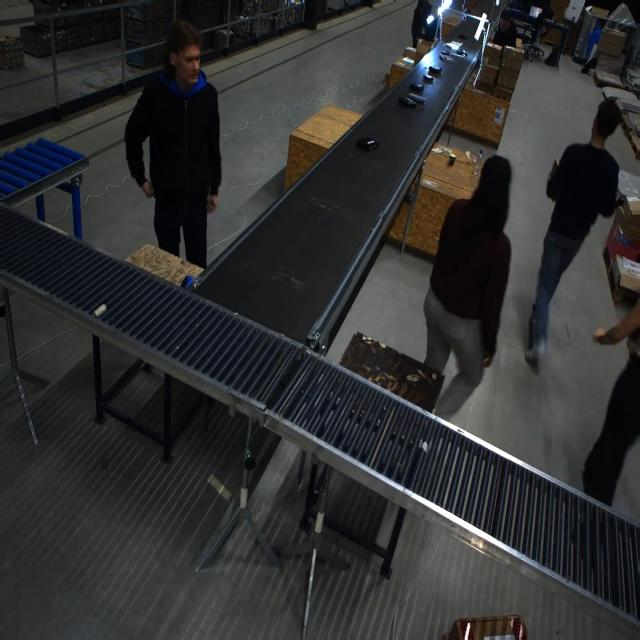product: (355, 136, 379, 151), (398, 96, 416, 108), (407, 94, 426, 103), (447, 40, 462, 50), (409, 82, 424, 91), (440, 55, 455, 63), (427, 66, 441, 74), (457, 48, 468, 56), (422, 74, 434, 81), (457, 33, 468, 40), (440, 50, 451, 57)
